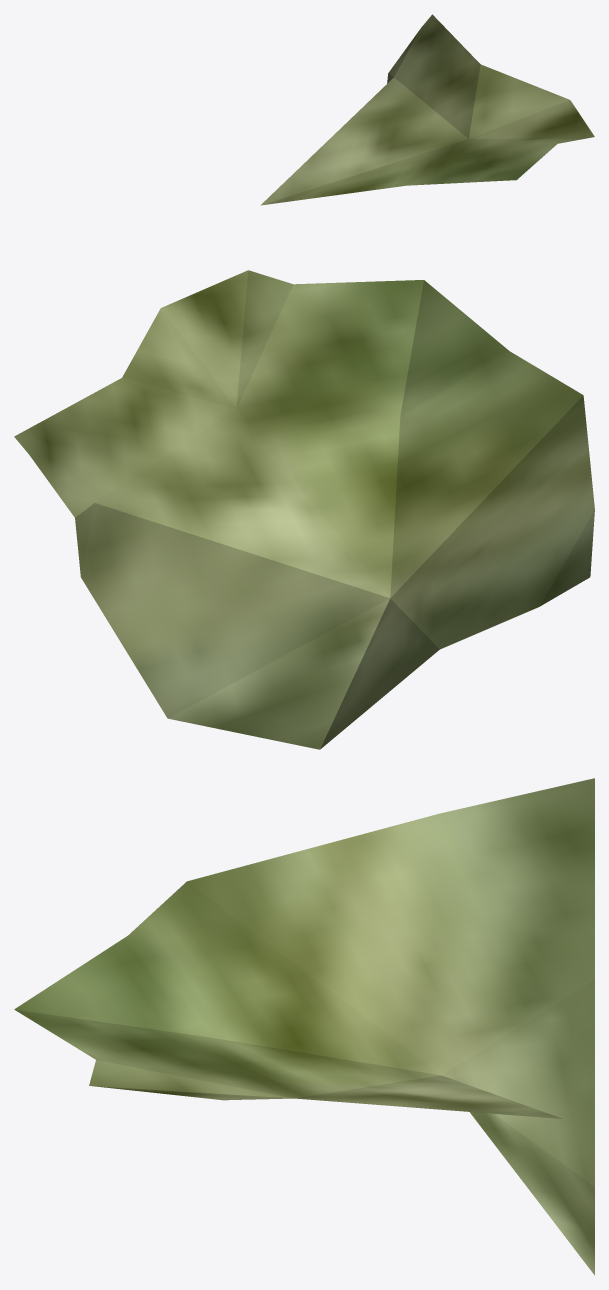
3 views of the same model, one above another, from view 1: azimuth 30°, elevation 25°; view 2: azimuth 150°, elevation 25°; view 3: azimuth 270°, elevation 25° (orthographic). The views are drawn at different scales.
Bounding box in the file's own units: 0.7764 × 0.3033 × 0.5917.
Materials: 1 (1 with a texture image).
